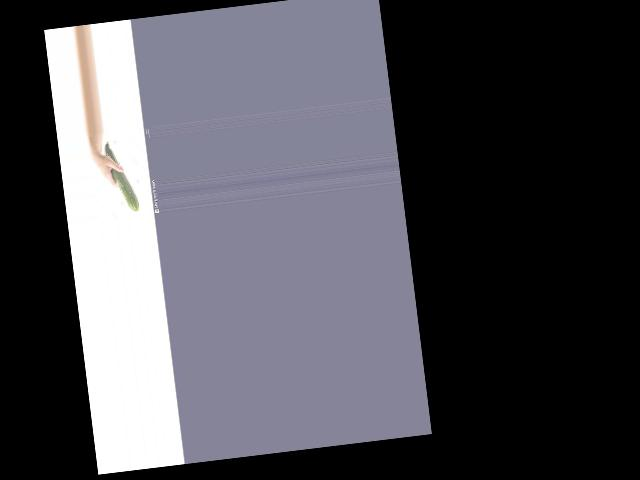cucumber: (103, 138, 140, 214)
